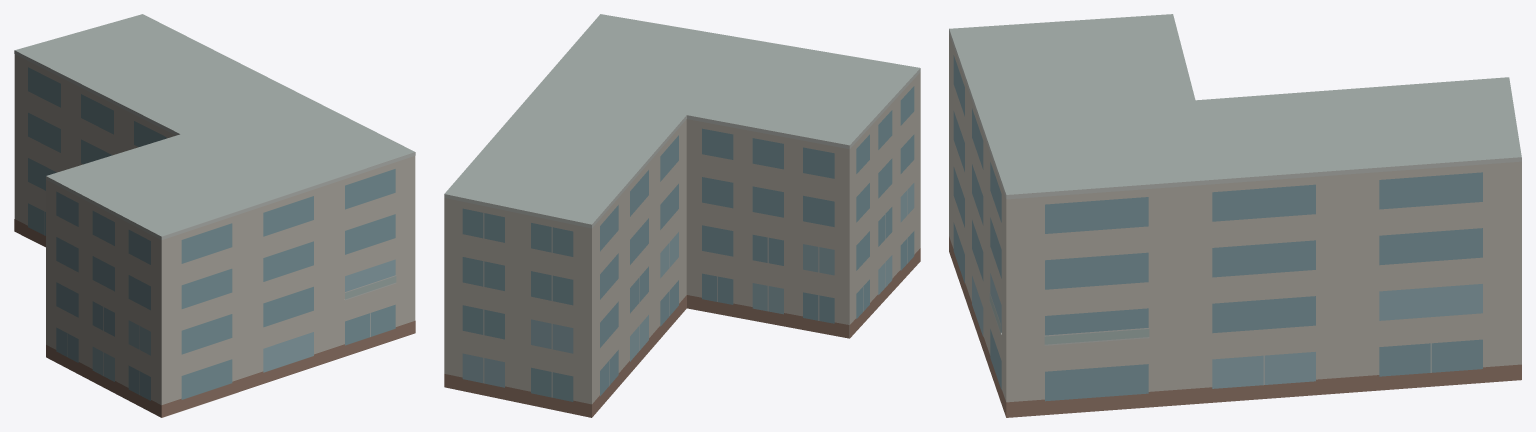
The model's file is residential-461bdff8-a78b-4f07-b51d-cb71b15d6904.glb.
The picture shows the model from 3 angles, left to right: view 1: azimuth 30°, elevation 25°; view 2: azimuth 150°, elevation 25°; view 3: azimuth 270°, elevation 25°; orthographic projection. The views are drawn at different scales.
Parts seen in each view (by area): view 1: residential-461bdff8-a78b-4f07-b51d-cb71b15d6904.tmp; view 2: residential-461bdff8-a78b-4f07-b51d-cb71b15d6904.tmp; view 3: residential-461bdff8-a78b-4f07-b51d-cb71b15d6904.tmp.
Part boxes in pixels (x1,y1,x2,y2): residential-461bdff8-a78b-4f07-b51d-cb71b15d6904.tmp: (14,14,415,417); residential-461bdff8-a78b-4f07-b51d-cb71b15d6904.tmp: (444,14,920,417); residential-461bdff8-a78b-4f07-b51d-cb71b15d6904.tmp: (949,14,1521,417).
Size of the model in its own units: 21.26 by 12.2 by 28.42.
